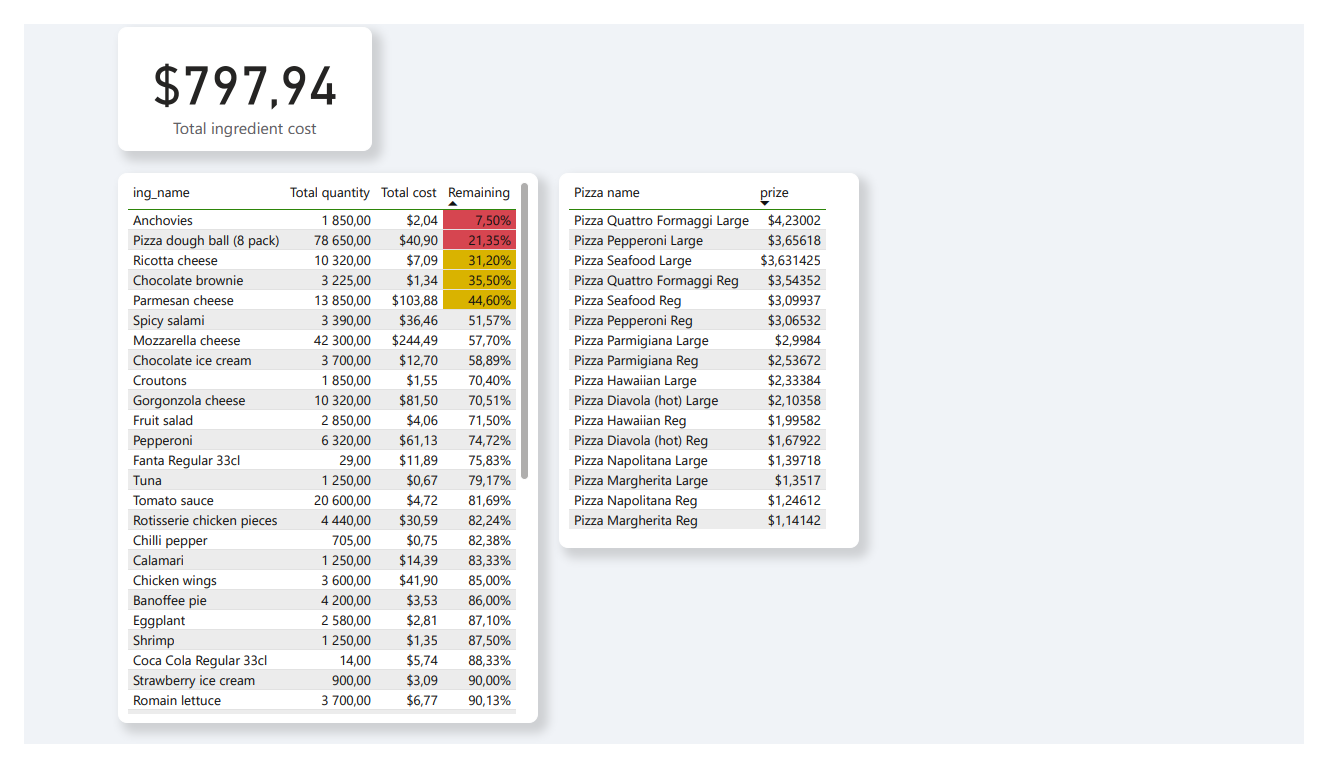

The dashboard page shown, as its layout file describes it:
{"tool":"powerbi","page":{"name":"Dashboard2","canvas":[1280,720],"ordinal":1},"visuals":[{"type":"card","fields":{"Values":["Sum(project1-pizza stock1.cost_of_ingredient)"]},"box":[93.6,2.7,254.5,124.5],"z":1000},{"type":"tableEx","fields":{"Values":["project1-pizza stock1.item_name","Sum(project1-pizza stock1.recipe_cost)"]},"box":[534.5,149.1,300,375],"z":2000},{"type":"tableEx","fields":{"Values":["project1-pizza stock1.ing_name","Sum(project1-pizza stock1.ordered_weight)","Sum(project1-pizza stock1.cost_of_ingredient)","DASHBOARD2.percentage_remaing"]},"box":[93.6,149.1,420,550],"z":6500}]}

Visuals, with their boxes in screenshot pixels (x1, y1, x2, y2), scaled from the page's 1280x720 canvas onto the 1325x767 screenshot:
card - Sum(project1-pizza stock1.cost_of_ingredient): rect(97, 3, 360, 136)
tableEx - project1-pizza stock1.item_name x Sum(project1-pizza stock1.recipe_cost): rect(553, 159, 864, 558)
tableEx - project1-pizza stock1.ing_name x Sum(project1-pizza stock1.ordered_weight): rect(97, 159, 532, 745)
